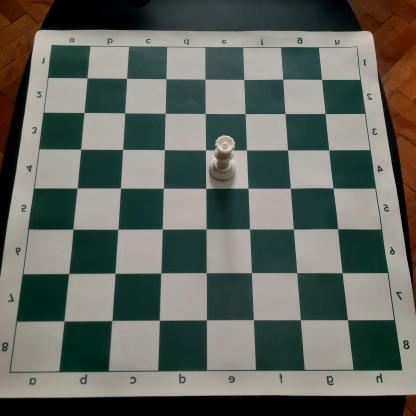white-queen: (207, 134, 238, 182)
